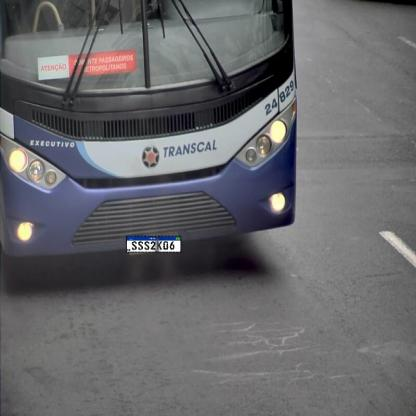PlacaM: (126, 236, 181, 252)
